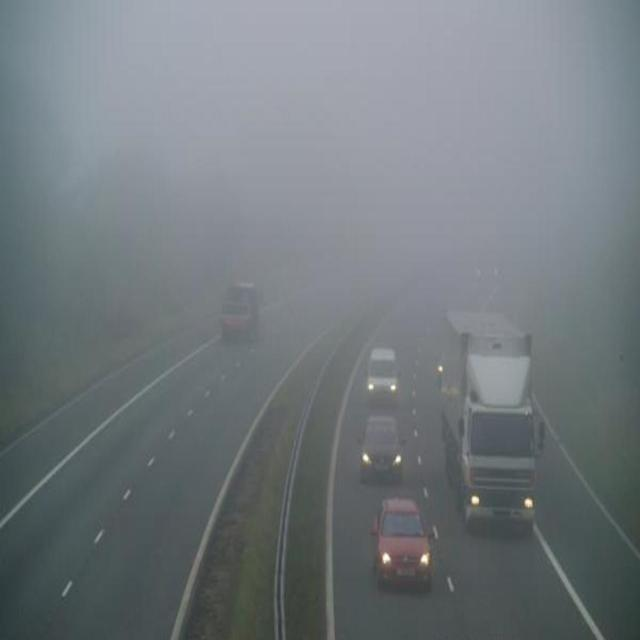Car: (366, 484, 432, 595), (202, 261, 265, 353), (343, 411, 407, 490), (358, 331, 404, 407), (418, 319, 452, 381)
Truck: (441, 292, 545, 530)
